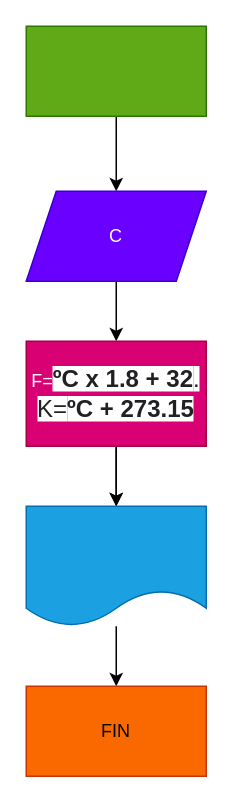
Some shapes in this 233 by 803 pixel diagram are drawn without their labels. Here are the shapes that lost their labels. From the top down, the box of each, then its label:
(25, 25, 206, 116): inicio
(25, 505, 206, 626): F,K
